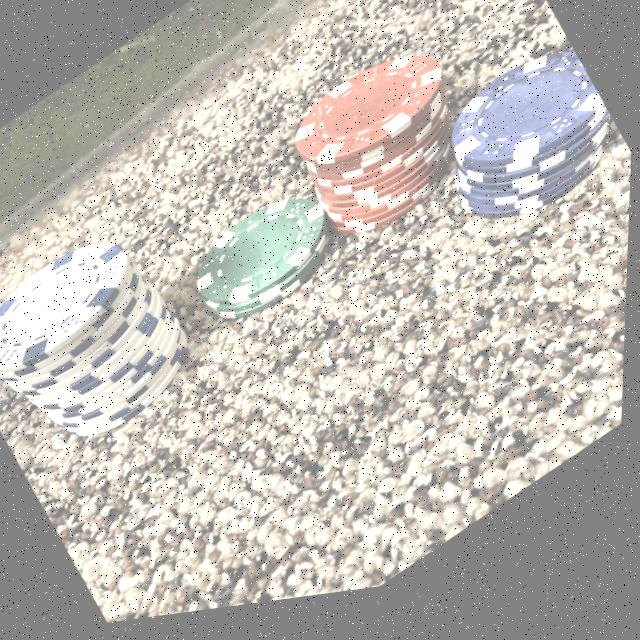Chip: (0, 169, 242, 499), (254, 1, 509, 289), (407, 20, 637, 281), (155, 157, 371, 372)
